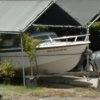Boat: (2, 34, 93, 85)
